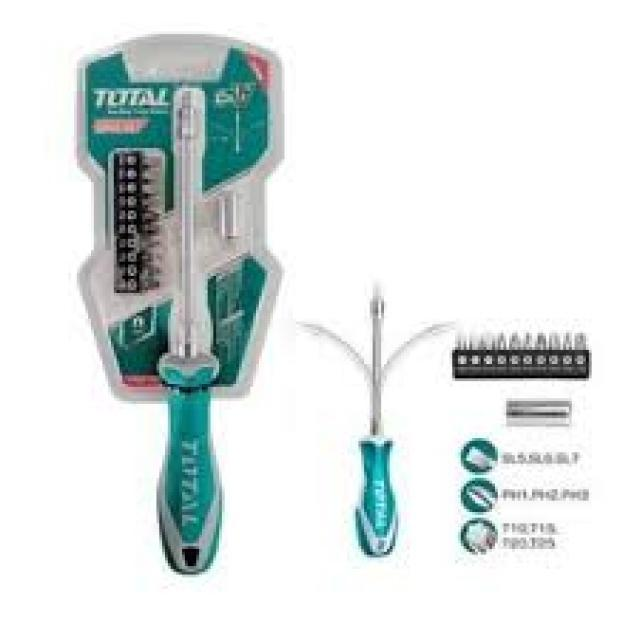screwdriver: (148, 85, 236, 583)
